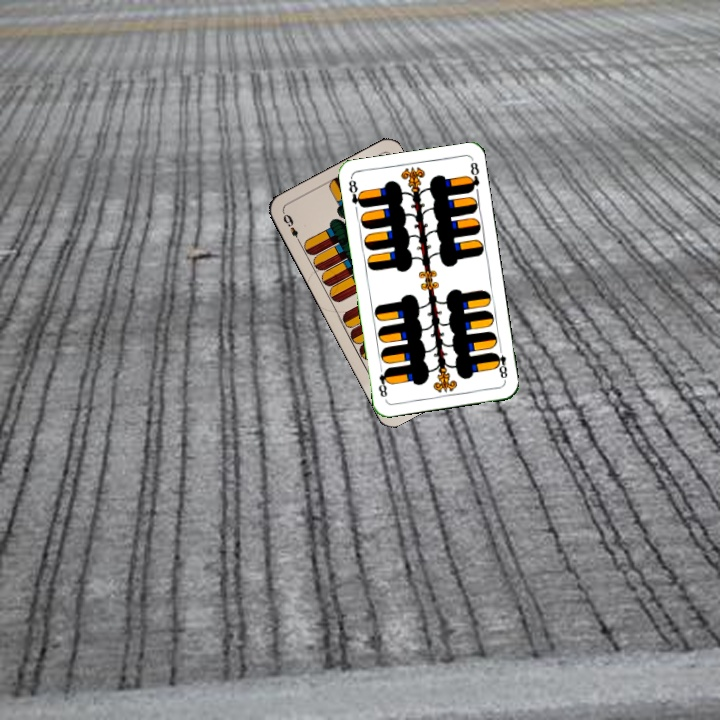E8: (490, 343, 510, 384), (344, 175, 366, 210)
E9: (279, 210, 303, 246)
